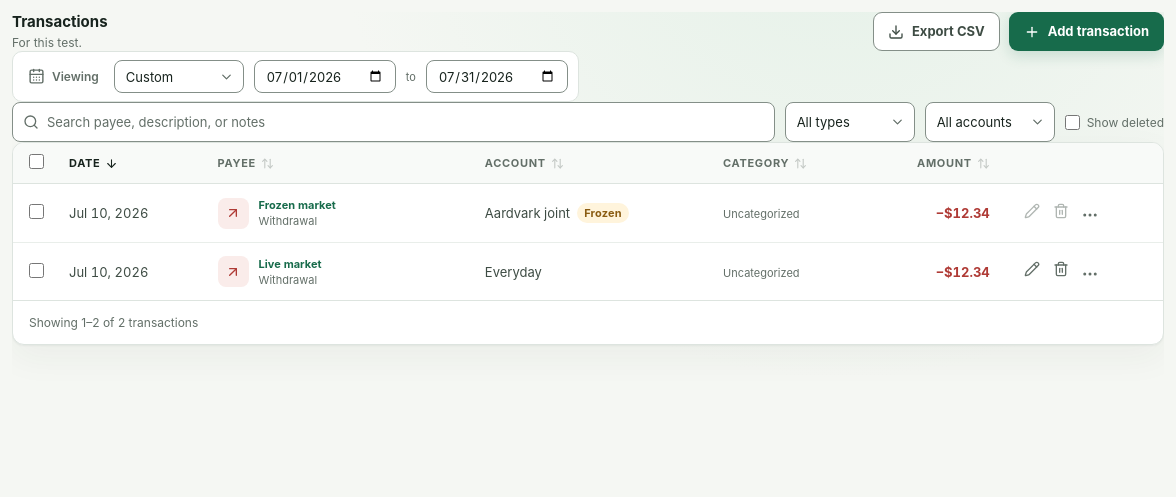
entries on a frozen account, in the transaction list › disables the selection's Delete and Edit while a selected entry is on one
Expected: the button named "Edit " is enabled, [1018, 255, 1047, 284]
Click the checkbox named "Select transaction Live market, Jul 10, 2026, Everyday, 4444". click: click(36, 270)
box: [28, 263, 44, 278]
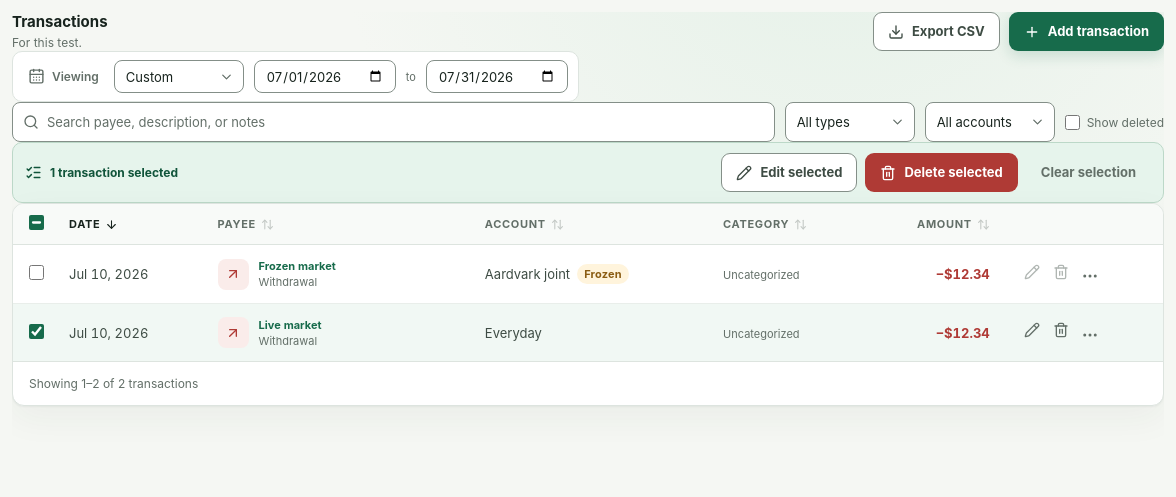
Now the button "Delete selected" is enabled, box [865, 153, 1018, 192]
Now the button "Edit selected" is enabled, box [721, 153, 857, 192]
Click the checkbox named "Select transaction Frozen market, Jul 10, 2026, Aardvark joi". click: click(36, 273)
box: [28, 265, 44, 280]
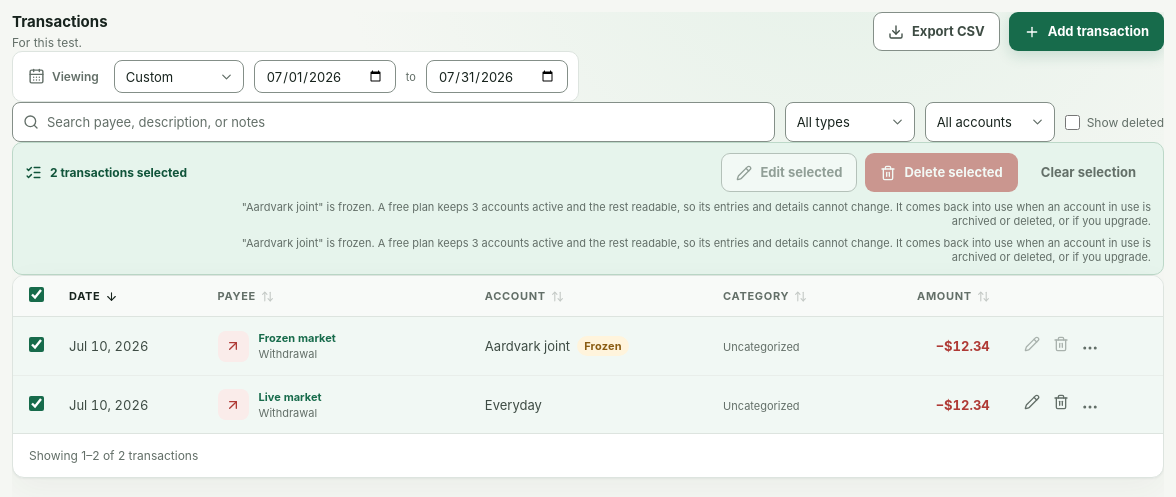
Now the button "Delete selected" is disabled, box [865, 153, 1018, 192]
Now the button "Edit selected" is disabled, box [721, 153, 857, 192]
